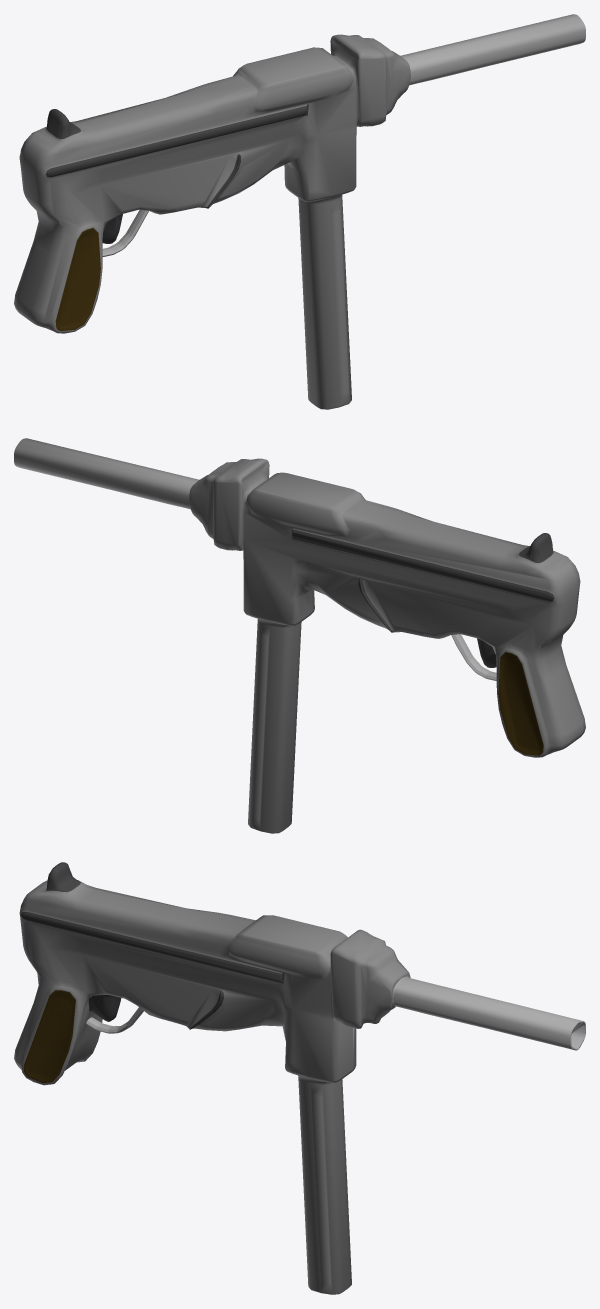
File: Gun.fbx
The picture shows the model from 3 angles, top to bottom: view 1: azimuth 30°, elevation 25°; view 2: azimuth 150°, elevation 25°; view 3: azimuth 330°, elevation 25°; orthographic projection.
Visible parts, largest first — view 1: Gun; view 2: Gun; view 3: Gun.
Boxes of the visible parts, x1,y1,x2,y2 form: Gun: (14, 14, 585, 409); Gun: (14, 438, 585, 833); Gun: (14, 862, 585, 1294).
Size of the model in its own units: 434 by 266 by 44.47.
